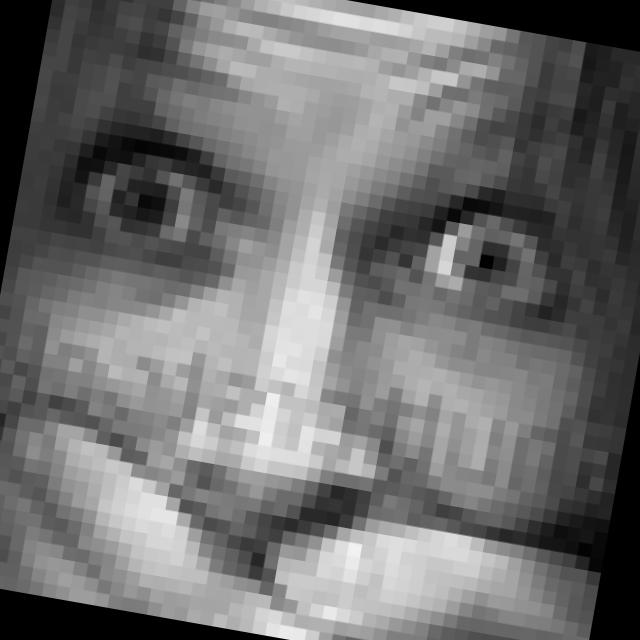fear: (0, 19, 610, 640)
